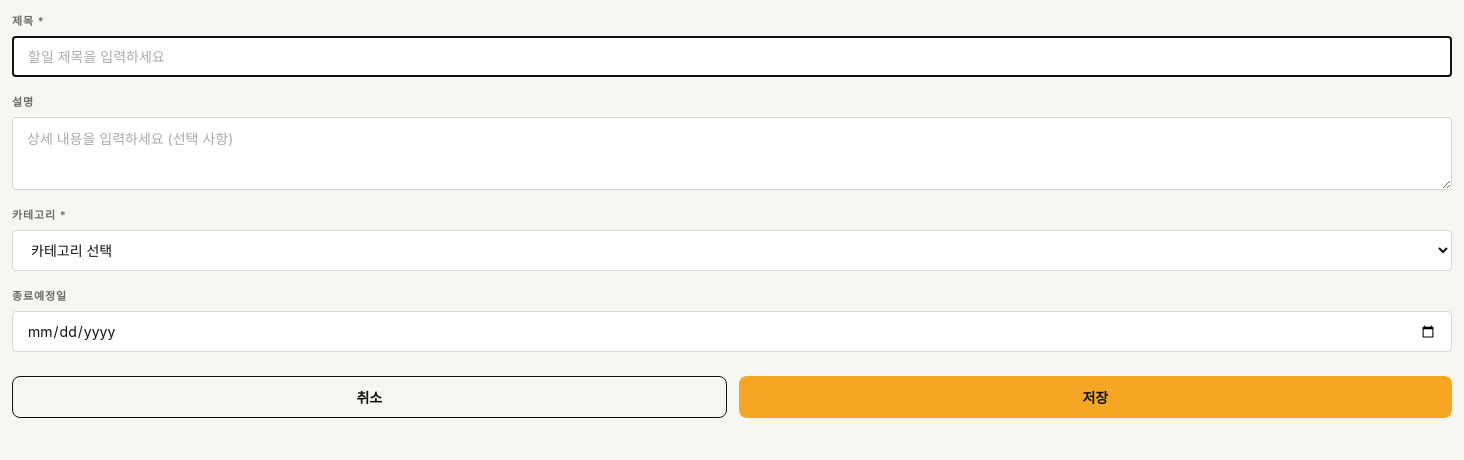
Test: TodoForm › 제목 미입력 제출 시 에러 메시지 표시
Select "▪ 업무" in the dropdown at (732, 250), box [12, 230, 1452, 271]
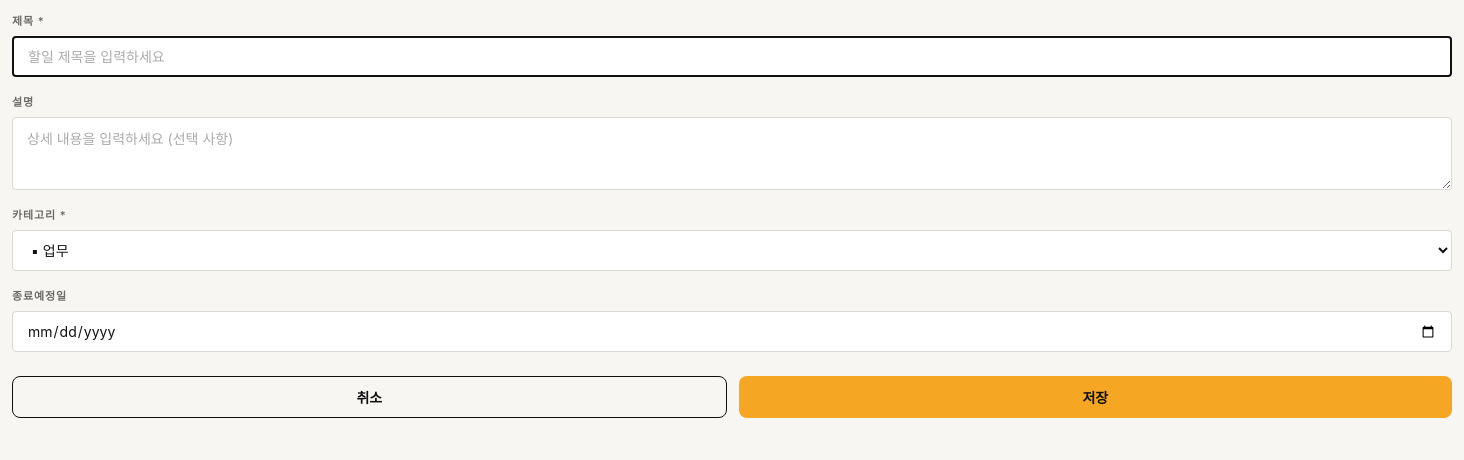
Click the button "저장" at (1095, 397), box [738, 376, 1452, 418]
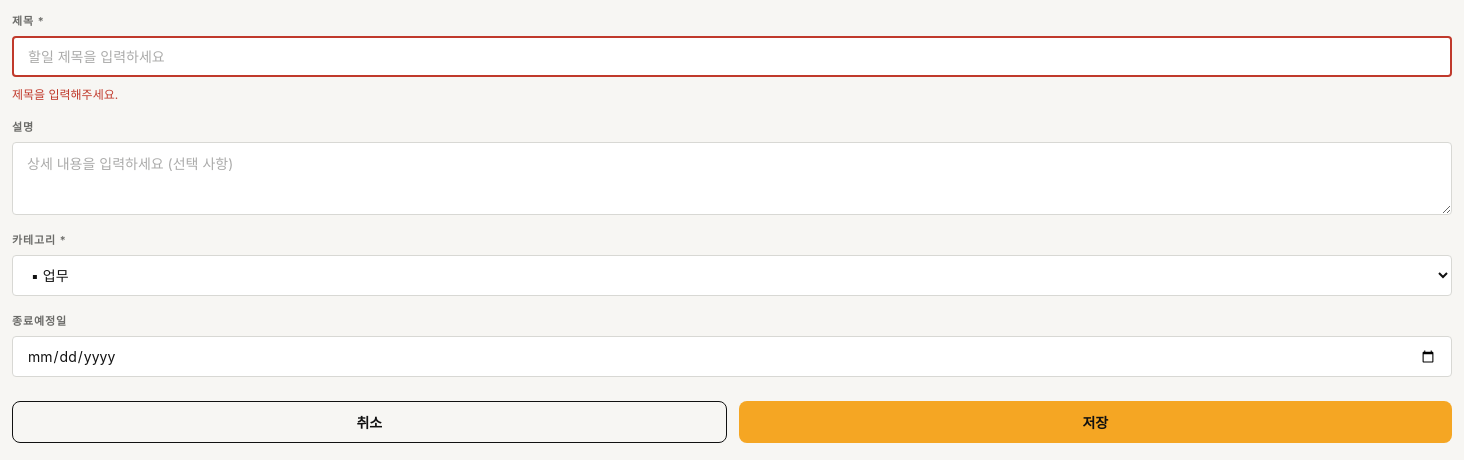
Result: the text "제목을 입력해주세요." is shown at [12, 87, 118, 102]
